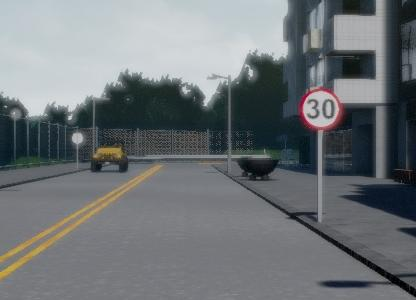Speed_30: (298, 86, 343, 132)
